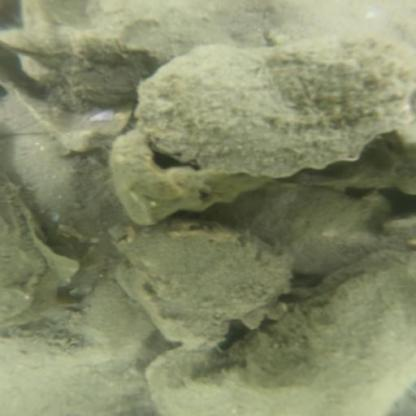Oyster- Indeterminate: (148, 240, 416, 414)
Oyster-Closed: (134, 32, 415, 177), (120, 230, 287, 350), (211, 187, 371, 273)
